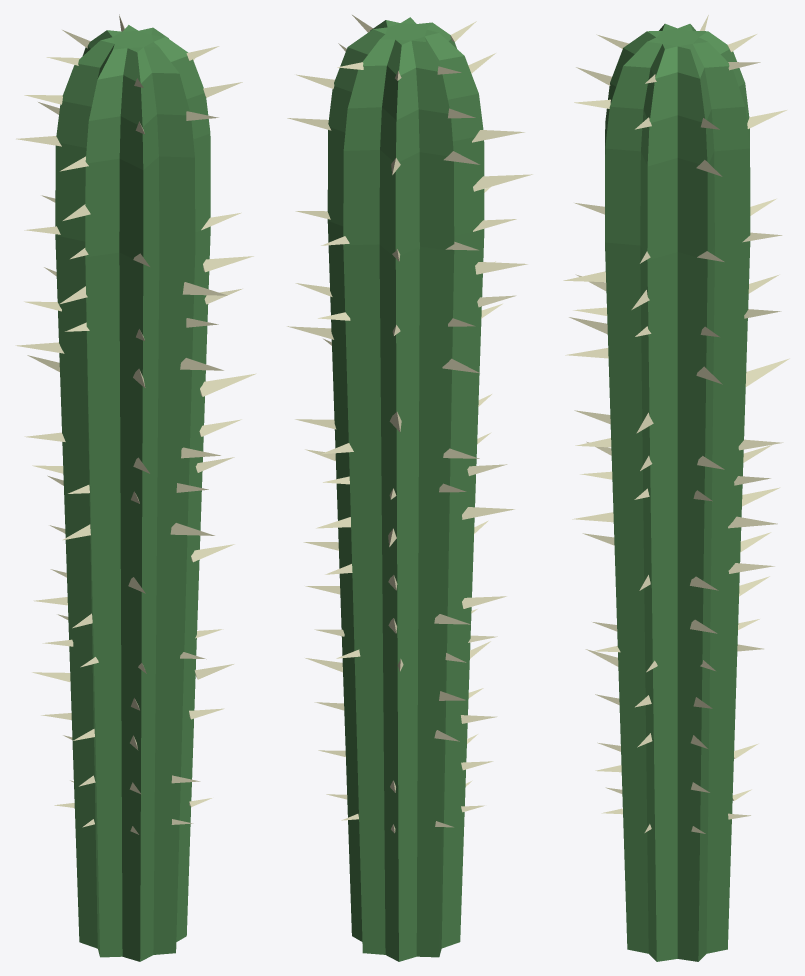
Rendered from Big_Cactus_003.fbx.
3 renders of one model, left to right at view 1: azimuth 30°, elevation 25°; view 2: azimuth 150°, elevation 25°; view 3: azimuth 270°, elevation 25°, orthographic.
Visible parts, largest first — view 1: Big_Cactus_003; view 2: Big_Cactus_003; view 3: Big_Cactus_003.
Part boxes in pixels (x1=…): Big_Cactus_003: x1=15, y1=14, x2=256, y2=961; Big_Cactus_003: x1=287, y1=15, x2=532, y2=961; Big_Cactus_003: x1=563, y1=15, x2=789, y2=961.
Size of the model in its own units: 0.7014 by 2.98 by 0.6815.
